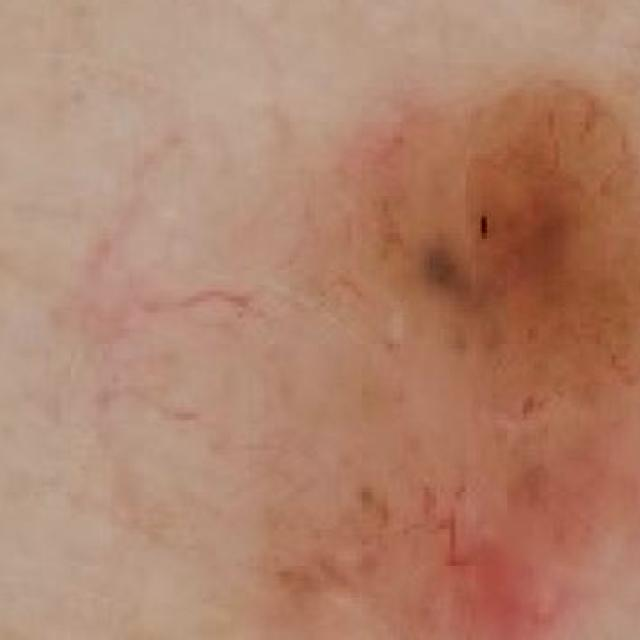BCC: (220, 29, 640, 640)
